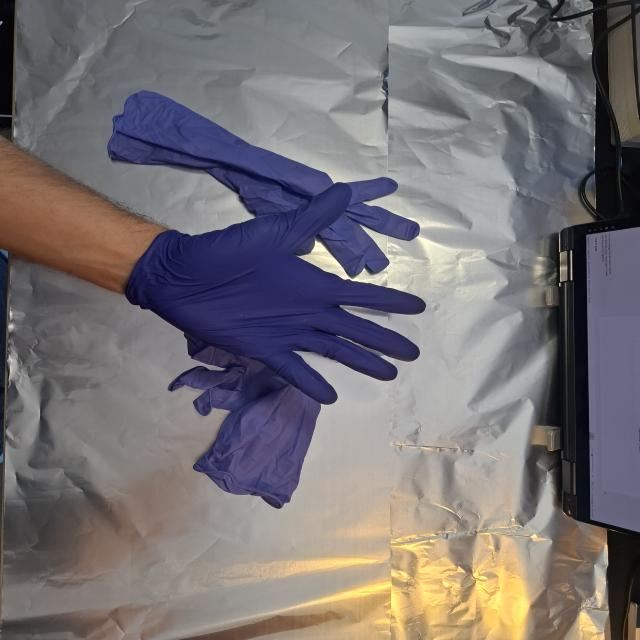glove_on: (124, 181, 429, 407)
